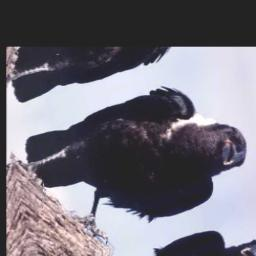Crow: (15, 59, 256, 256)
